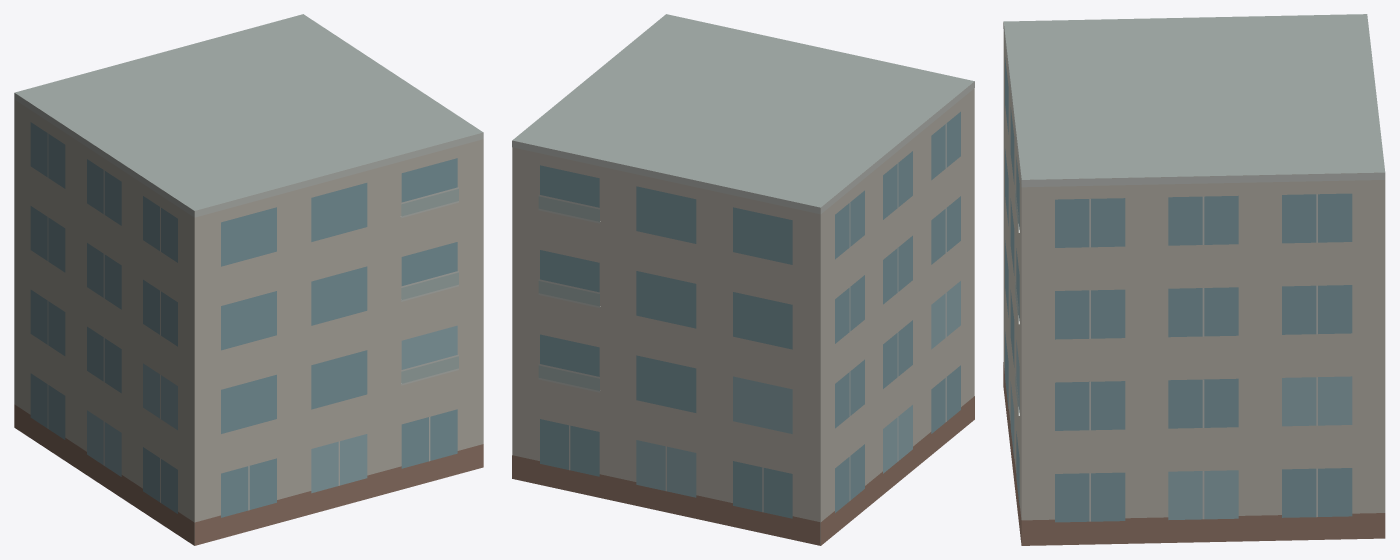
The model's file is residential-e7eadcc1-2cd3-49fa-90c7-30fdfca87f98.glb.
3 views of the same model, side by side, from view 1: azimuth 30°, elevation 25°; view 2: azimuth 150°, elevation 25°; view 3: azimuth 270°, elevation 25° (orthographic). The views are drawn at different scales.
Parts seen in each view (by area): view 1: residential-e7eadcc1-2cd3-49fa-90c7-30fdfca87f98.tmp; view 2: residential-e7eadcc1-2cd3-49fa-90c7-30fdfca87f98.tmp; view 3: residential-e7eadcc1-2cd3-49fa-90c7-30fdfca87f98.tmp.
Part boxes in pixels (<box>): residential-e7eadcc1-2cd3-49fa-90c7-30fdfca87f98.tmp: <box>14,14,483,545</box>; residential-e7eadcc1-2cd3-49fa-90c7-30fdfca87f98.tmp: <box>512,14,974,545</box>; residential-e7eadcc1-2cd3-49fa-90c7-30fdfca87f98.tmp: <box>1003,14,1385,545</box>.
Size of the model in its own units: 11.88 by 12.2 by 11.54.
